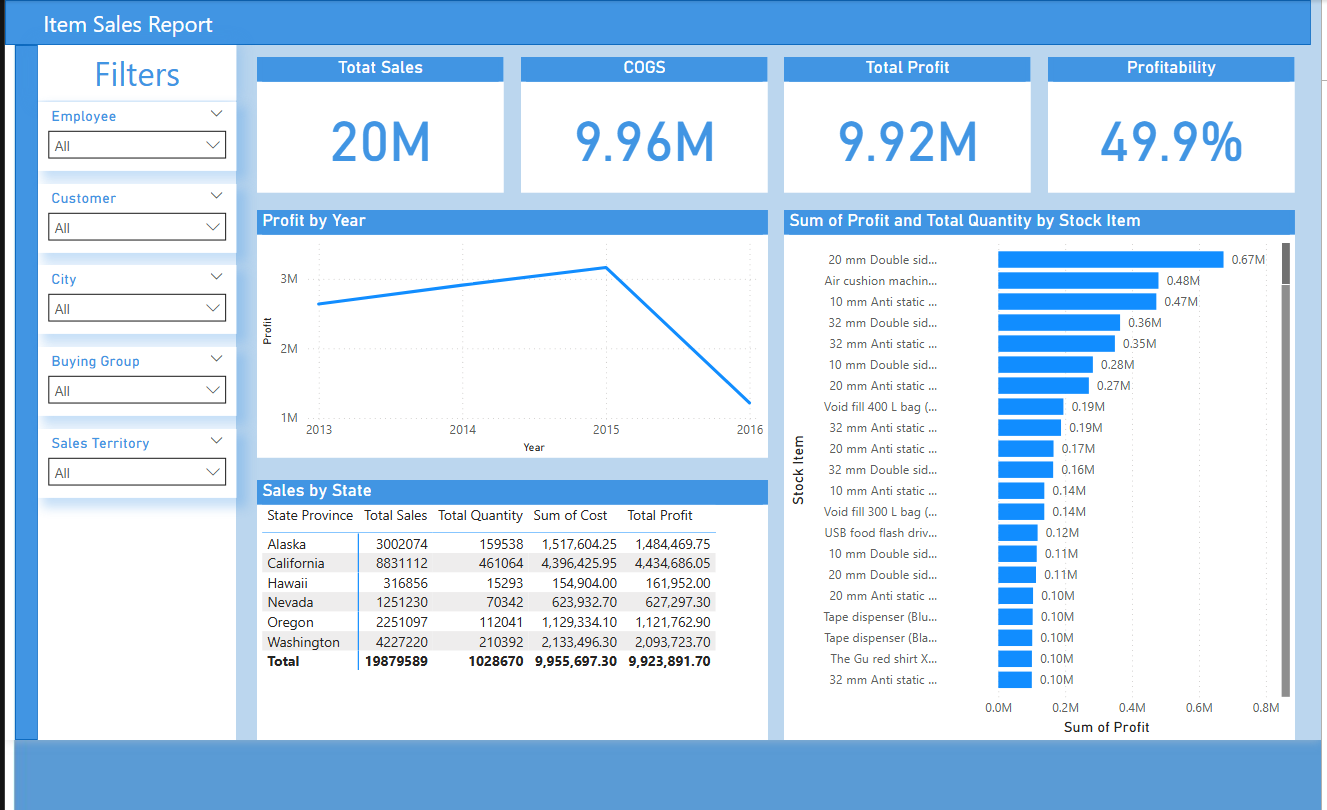

What the dashboard file says about the page in this screenshot:
{"tool":"powerbi","page":{"name":"Profit Dashboard","canvas":[1280,720],"ordinal":1},"visuals":[{"type":"shape","box":[0,0,1270.3,43.8],"z":0},{"type":"shape","box":[9.7,43.8,22.4,676],"z":1000},{"type":"shape","box":[32.1,43.8,192.6,676],"z":2000},{"type":"card","title":"Totat Sales","fields":{"Values":["Sum(FactSale.Total Excluding Tax)"]},"box":[245.1,55.4,240.2,132.3],"z":3000},{"type":"textbox","box":[32.1,2.9,286.9,40.9],"z":4000},{"type":"card","title":"Profitability","fields":{"Values":["FactSale.Profitability"]},"box":[1014.5,55.4,240.2,132.3],"z":5000},{"type":"card","title":"Total Profit","fields":{"Values":["Sum(FactSale.Profit)"]},"box":[758,55.4,240.2,132.3],"z":6000},{"type":"card","title":"COGS","fields":{"Values":["Sum(FactSale.Cost)"]},"box":[501.6,55.4,240.2,132.3],"z":7000},{"type":"textbox","box":[32.1,43.8,192.6,54.5],"z":8000},{"type":"lineChart","title":" Profit by Year","fields":{"Category":["DimDate.Date.Variation.Date Hierarchy.Year","DimDate.Date.Variation.Date Hierarchy.Quarter","DimDate.Date.Variation.Date Hierarchy.Month","DimDate.Date.Variation.Date Hierarchy.Day"],"Y":["Sum(FactSale.Profit)"]},"box":[245.1,204.3,497,241.2],"z":9000},{"type":"barChart","fields":{"Category":["DimStockItem.Stock Item"],"Y":["Sum(FactSale.Profit)"]},"box":[757.7,204.3,497,515.5],"z":10000},{"type":"pivotTable","title":"Sales by State","fields":{"Values":["Sum(FactSale.Total Excluding Tax)","Sum(FactSale.Quantity)","Sum(FactSale.Cost)","Sum(FactSale.Profit)"],"Rows":["DimCity.State Province"]},"box":[245.1,466.9,497,252.9],"z":11000},{"type":"slicer","fields":{"Values":["DimEmployee.Employee"]},"box":[32,98.9,192.8,66.9],"z":12000},{"type":"slicer","fields":{"Values":["DimCustomers.Customer"]},"box":[32,178.9,192.8,66.9],"z":13000},{"type":"slicer","fields":{"Values":["DimCity.City"]},"box":[32,257.8,192.8,66.9],"z":14000},{"type":"slicer","fields":{"Values":["DimCustomers.Buying Group"]},"box":[32,337.7,192.8,66.9],"z":15000},{"type":"slicer","fields":{"Values":["DimCity.Sales Territory"]},"box":[32,417.7,192.8,66.9],"z":16000}]}

Visuals, with their boxes on the page's 1280x720 design canvas (x1, y1, x2, y2). These are canvas units, not pixel positions in the 1327x810 screenshot, which may show the page scaled, cropped or inside an application window:
shape: crop(0, 0, 1270, 44)
shape: crop(10, 44, 32, 720)
shape: crop(32, 44, 225, 720)
"Totat Sales" card: crop(245, 55, 485, 188)
textbox: crop(32, 3, 319, 44)
"Profitability" card: crop(1014, 55, 1255, 188)
"Total Profit" card: crop(758, 55, 998, 188)
"COGS" card: crop(502, 55, 742, 188)
textbox: crop(32, 44, 225, 98)
" Profit by Year" lineChart: crop(245, 204, 742, 446)
barChart - DimStockItem.Stock Item x Sum(FactSale.Profit): crop(758, 204, 1255, 720)
"Sales by State" pivotTable: crop(245, 467, 742, 720)
slicer - DimEmployee.Employee: crop(32, 99, 225, 166)
slicer - DimCustomers.Customer: crop(32, 179, 225, 246)
slicer - DimCity.City: crop(32, 258, 225, 325)
slicer - DimCustomers.Buying Group: crop(32, 338, 225, 405)
slicer - DimCity.Sales Territory: crop(32, 418, 225, 485)
